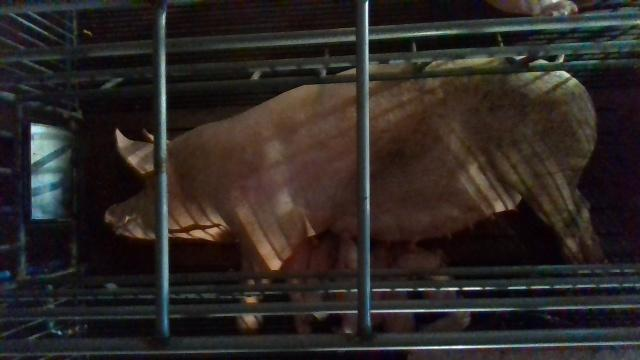piglet: (385, 248, 442, 335), (303, 232, 338, 320), (336, 233, 365, 334), (484, 0, 579, 20)
sow-sleep-lactate: (105, 58, 605, 332)
